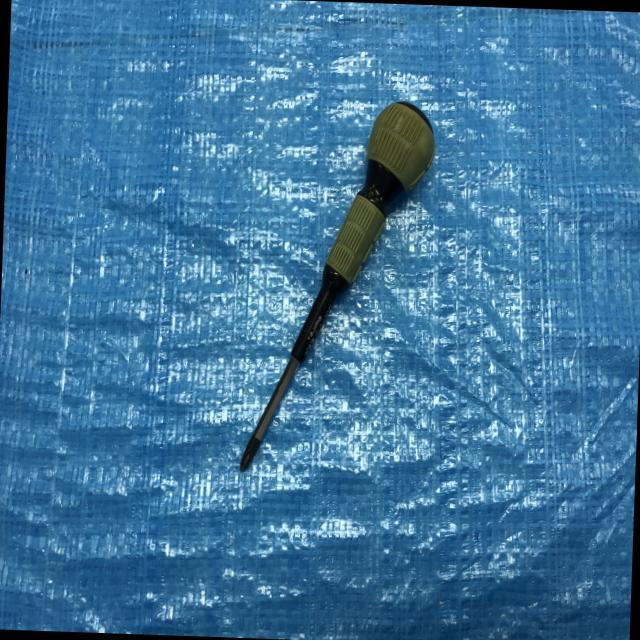screwdriver: (237, 90, 438, 480)
